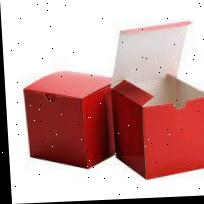cube: (21, 69, 115, 173), (110, 80, 204, 181)
